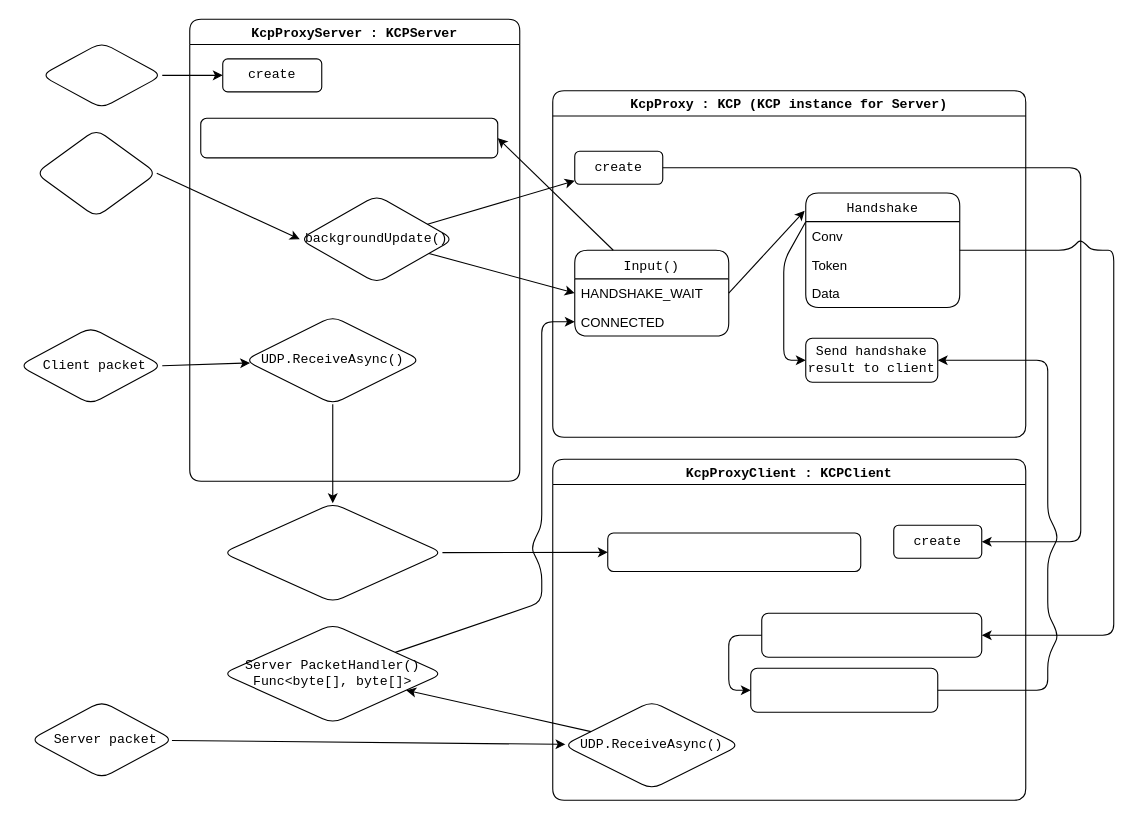
This 1142x820 diagram has some shape labels left out. Here are the shapes that lost their labels. From the top down, the centre of each, then its label:
[101,74]: main
[349,137]: Output = UDP.sendTo(newClientAddress)
[96,172]: New Connection
[332,552]: Client PacketHandler() Func<byte[], byte[]>
[734,551]: SendAsync => KCP.SendAsync()
[871,634]: ConnectAsync() => KCP.ConnectAsync()
[844,689]: GetSendbackHandshake()
